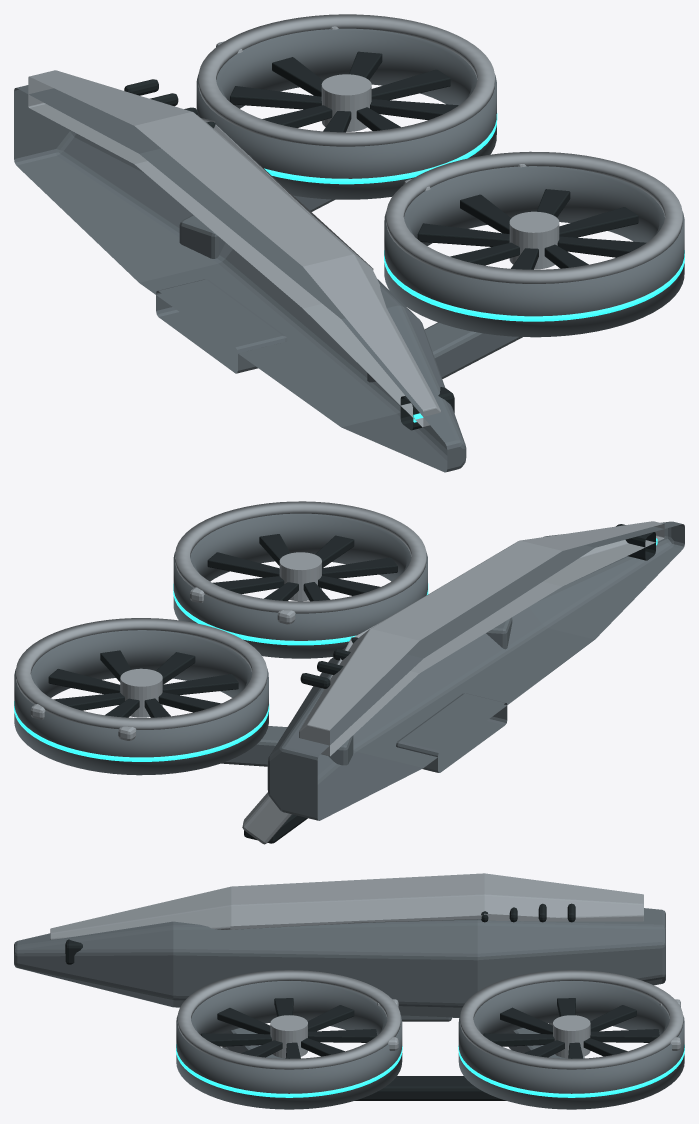
File: field-proposal.glb
3 views of the same model, one above another, from view 1: azimuth 30°, elevation 25°; view 2: azimuth 150°, elevation 25°; view 3: azimuth 270°, elevation 25° (orthographic). The views are drawn at different scales.
Parts seen in each view (by area): view 1: Keel, Dorsal_Shell, Duct_0, Duct_1, Duct_Lip_1, Duct_Lip_0, Service_Bay, Load_Boom_0, Rotor_Hub_0, Rotor_Hub_1, Duct_Link_0, Load_Boom_1 (+11 smaller); view 2: Keel, Duct_1, Dorsal_Shell, Duct_0, Duct_Lip_0, Duct_Lip_1, Service_Bay, Load_Boom_1, Rotor_Hub_1, Rotor_Hub_0, Duct_Link_1, Landing_Strut.001 (+14 smaller); view 3: Keel, Dorsal_Shell, Duct_0, Duct_1, Duct_Lip_0, Duct_Lip_1, Skid, Rotor_Hub_1, Rotor_Hub_0, Duct_Link_0, Duct_Link_1, Blade_0_2 (+11 smaller).
Boxes of the visible parts, left/top/right/bottom form: Keel: left=14, top=85, right=466, bottom=472; Dorsal_Shell: left=28, top=70, right=440, bottom=427; Duct_0: left=384, top=166, right=684, bottom=337; Duct_1: left=196, top=28, right=496, bottom=199; Duct_Lip_1: left=198, top=14, right=494, bottom=146; Duct_Lip_0: left=386, top=151, right=682, bottom=283; Service_Bay: left=156, top=279, right=287, bottom=373; Load_Boom_0: left=367, top=322, right=522, bottom=382; Rotor_Hub_0: left=509, top=211, right=559, bottom=269; Rotor_Hub_1: left=321, top=74, right=371, bottom=131; Duct_Link_0: left=384, top=250, right=684, bottom=321; Load_Boom_1: left=179, top=196, right=334, bottom=258; Keel: left=267, top=521, right=684, bottom=820; Duct_1: left=14, top=630, right=268, bottom=775; Dorsal_Shell: left=299, top=521, right=664, bottom=756; Duct_0: left=173, top=513, right=427, bottom=658; Duct_Lip_0: left=175, top=501, right=426, bottom=613; Duct_Lip_1: left=16, top=618, right=267, bottom=729; Service_Bay: left=396, top=693, right=507, bottom=772; Load_Boom_1: left=221, top=726, right=353, bottom=766; Rotor_Hub_1: left=120, top=668, right=162, bottom=717; Rotor_Hub_0: left=279, top=552, right=321, bottom=601; Duct_Link_1: left=14, top=701, right=269, bottom=761; Landing_Strut.001: left=242, top=792, right=291, bottom=844; Keel: left=14, top=908, right=665, bottom=1017; Dorsal_Shell: left=50, top=873, right=643, bottom=939; Duct_0: left=176, top=981, right=402, bottom=1109; Duct_1: left=458, top=981, right=684, bottom=1109; Duct_Lip_0: left=177, top=970, right=400, bottom=1069; Duct_Lip_1: left=460, top=970, right=683, bottom=1069; Skid: left=354, top=1076, right=506, bottom=1100; Rotor_Hub_1: left=553, top=1015, right=590, bottom=1058; Rotor_Hub_0: left=270, top=1015, right=307, bottom=1058; Duct_Link_0: left=176, top=1044, right=402, bottom=1097; Duct_Link_1: left=458, top=1045, right=684, bottom=1097; Blade_0_2: left=308, top=1029, right=377, bottom=1042.
Bounding box in the file's own units: 2.4 × 1.31 × 4.63.
